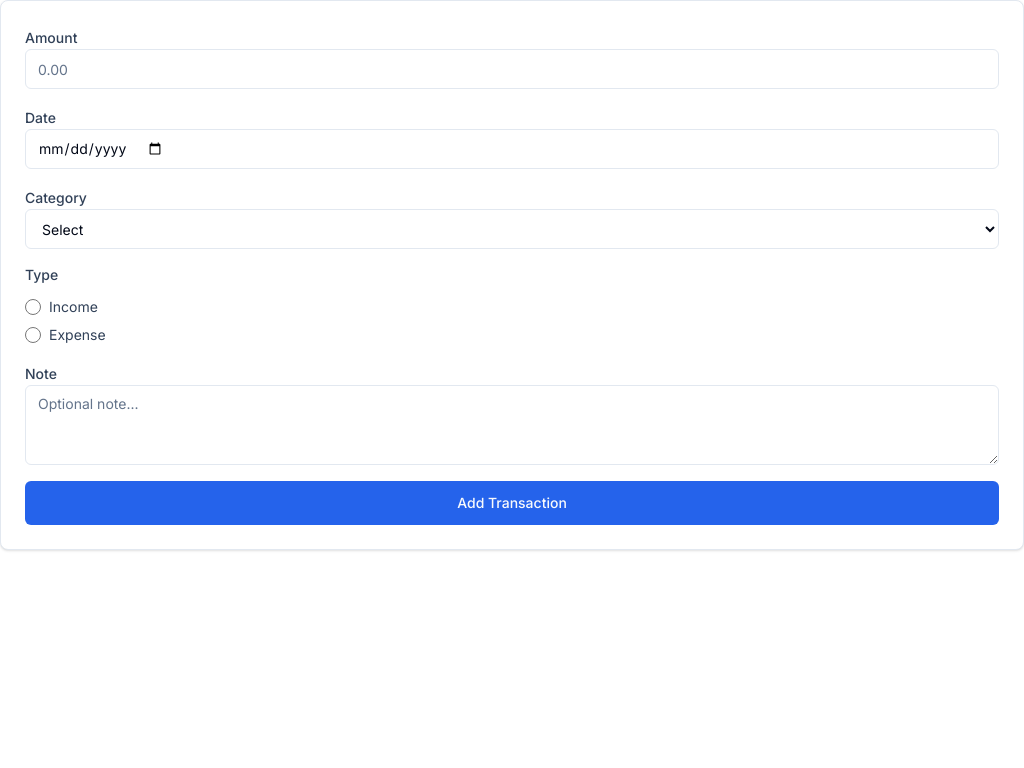
Test: AddTransactionForm validation › displays error message for negative amount
Fill all fields with negative amount
Type "-50" into the number field labelled "Amount" at x=512, y=69, box [25,49,999,89]
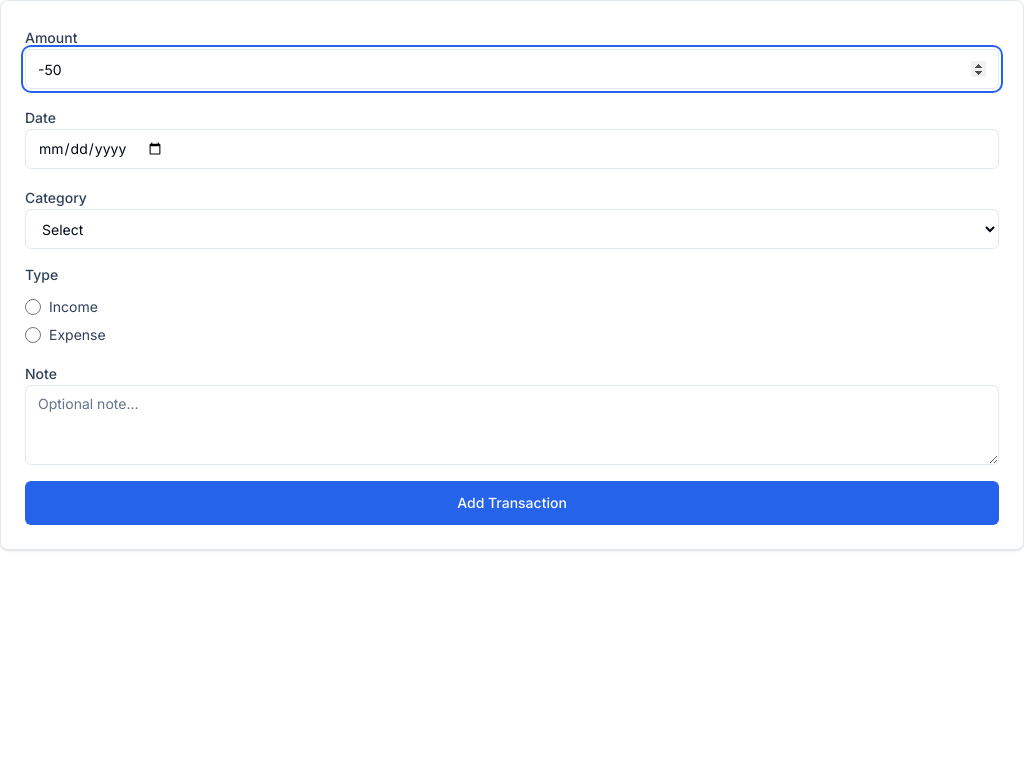
Type "2025-08-01" into the date field labelled "Date" at x=512, y=149, box [25,129,999,169]
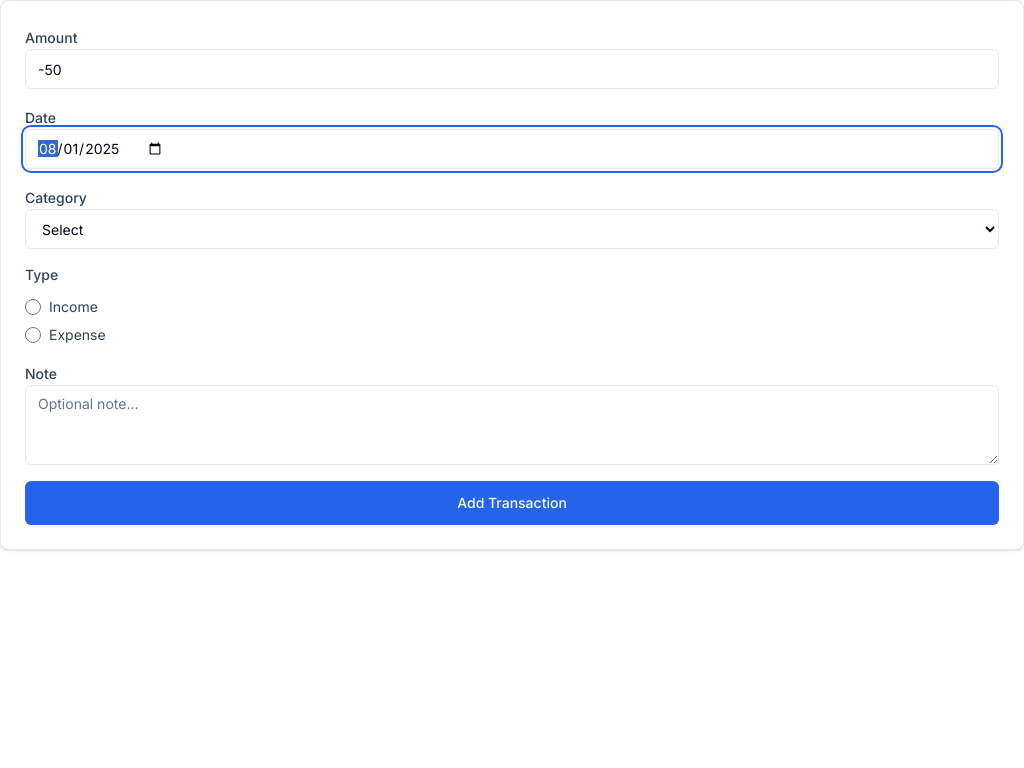
Select "General" in the dropdown labelled "Category" at x=512, y=229, box [25,209,999,249]
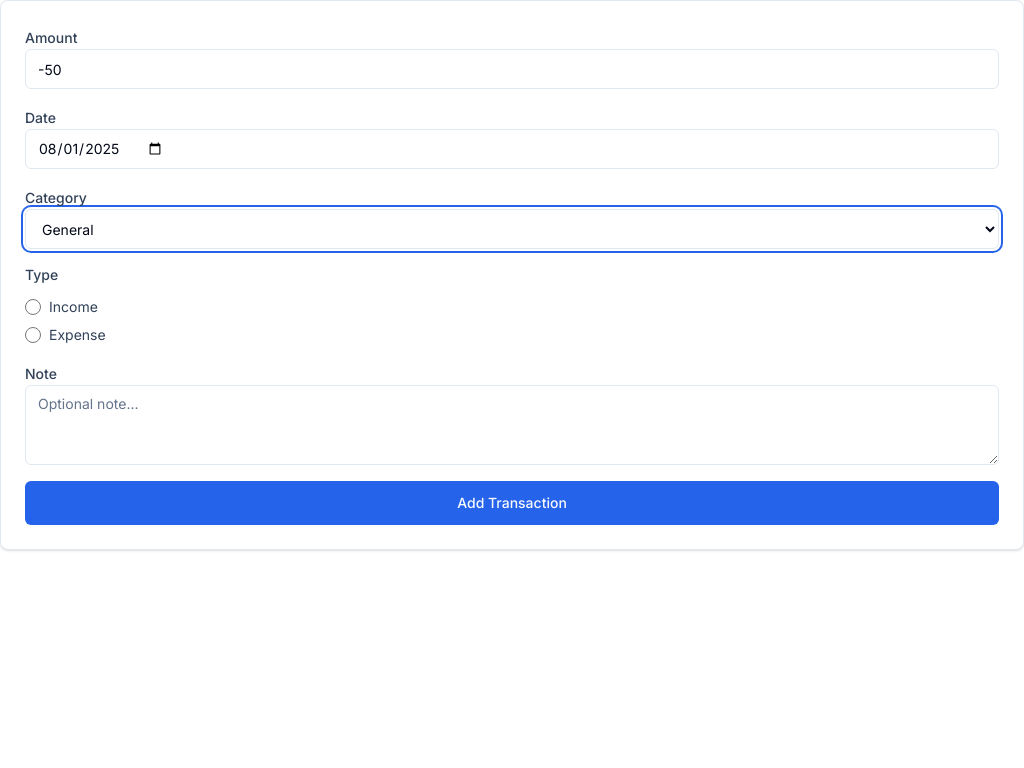
Click the radio button labelled "Income" at x=33, y=307, box [25,299,41,315]
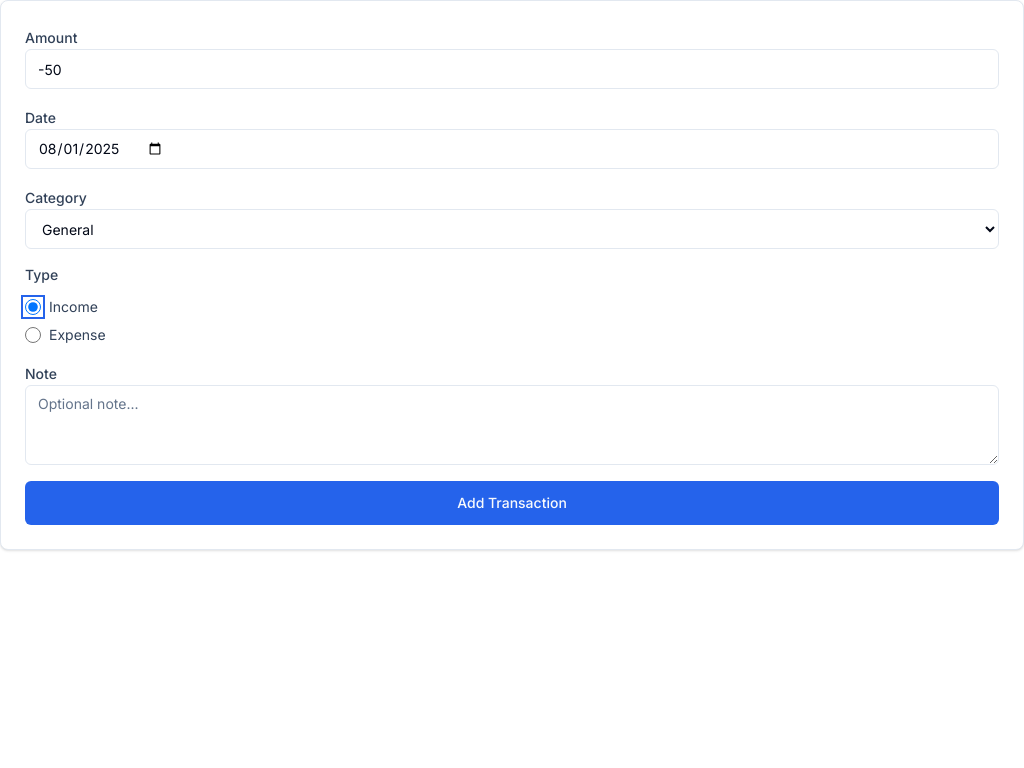
Click the button "Add Transaction" at x=512, y=503, box [25,481,999,525]
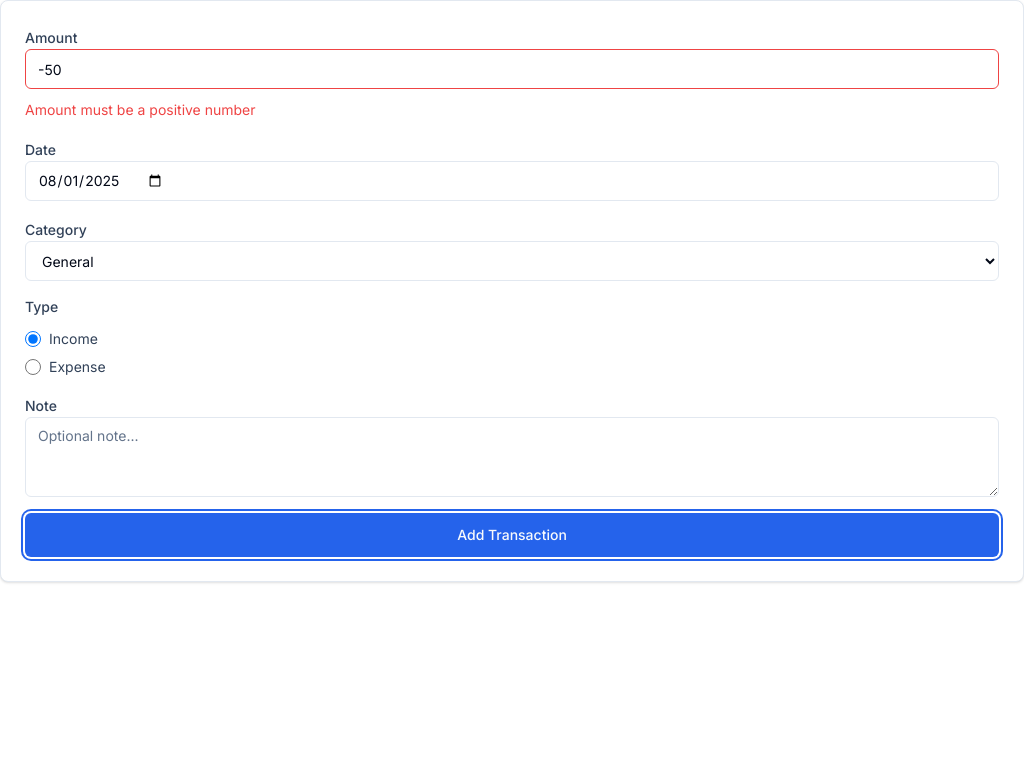
Expected: the text "Amount must be a positive number" is shown, [25,101,256,118]
